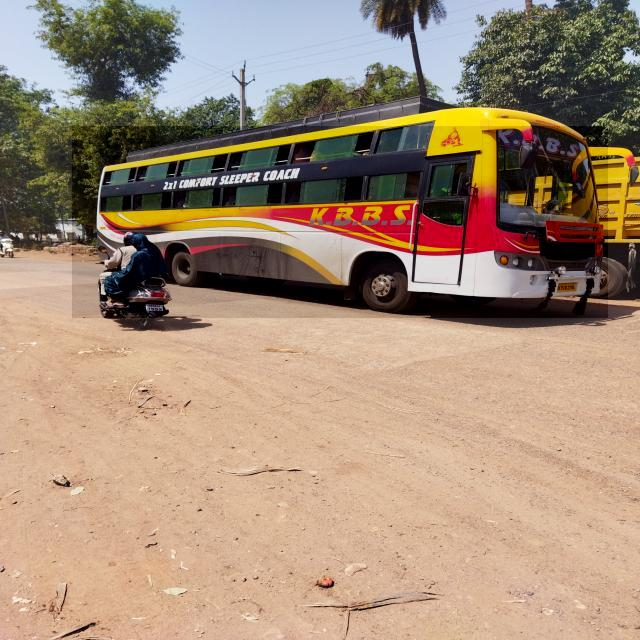Bus: (72, 126, 608, 318)
